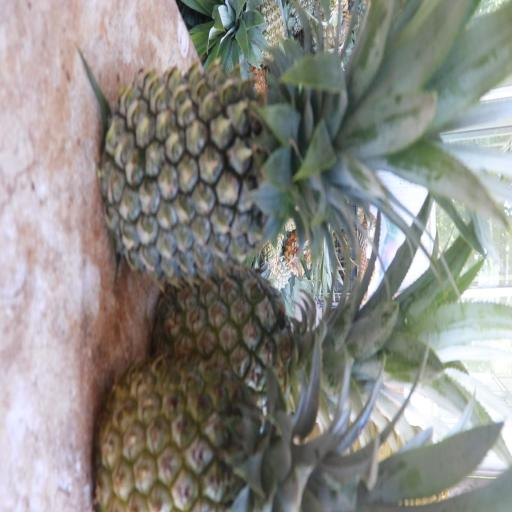------------------------------: (89, 354, 433, 512), (148, 250, 386, 430)
